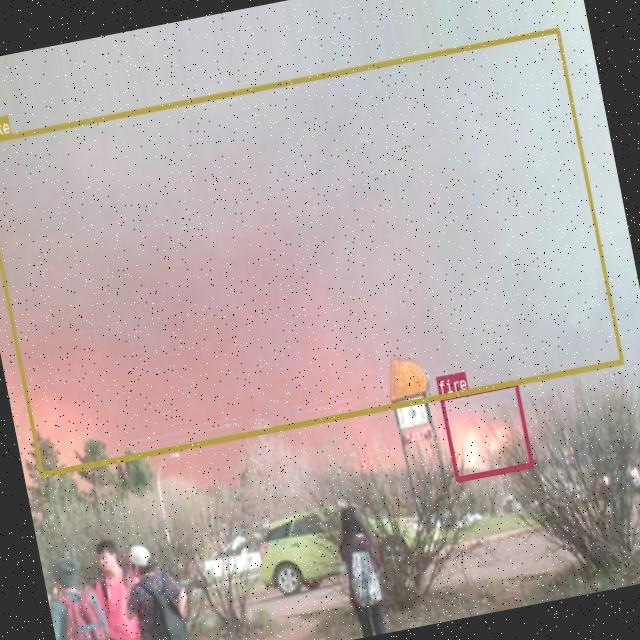fire: (438, 381, 532, 481)
smoke: (0, 26, 623, 477)
